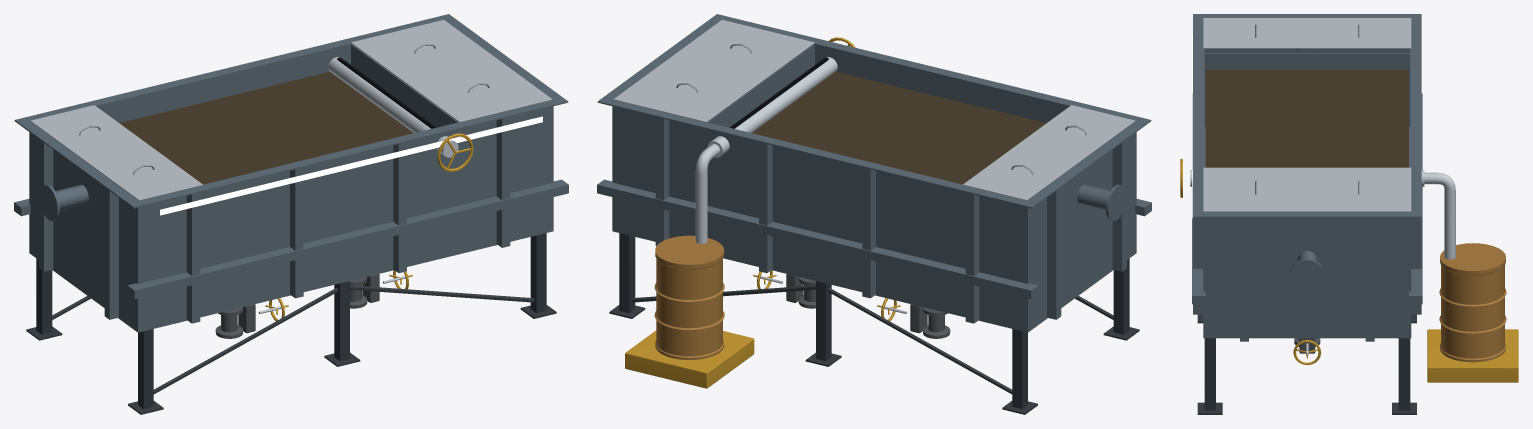
The model's file is separator.glb.
3 renders of one model, left to right at view 1: azimuth 30°, elevation 25°; view 2: azimuth 150°, elevation 25°; view 3: azimuth 270°, elevation 25°, orthographic. The views are drawn at different scales.
Visible parts, largest first — view 1: BODY_tank, WATER_surface, lids, BODY_stand, skimmer, STATUS_BAND, dv, nozzles, dv.001; view 2: BODY_tank, WATER_surface, lids, drum, BODY_stand, skimmer, dv, nozzles, dv.001; view 3: BODY_tank, WATER_surface, lids, drum, BODY_stand, skimmer, nozzles, dv.001.
Part boxes in pixels (bbox=[...]): BODY_tank: bbox=[14, 14, 568, 332]; WATER_surface: bbox=[119, 72, 413, 184]; lids: bbox=[30, 20, 552, 200]; BODY_stand: bbox=[26, 233, 556, 414]; skimmer: bbox=[328, 57, 473, 171]; STATUS_BAND: bbox=[160, 116, 542, 215]; dv: bbox=[215, 298, 288, 338]; nozzles: bbox=[39, 184, 88, 220]; dv.001: bbox=[350, 270, 412, 308]; BODY_tank: bbox=[597, 14, 1151, 332]; WATER_surface: bbox=[752, 72, 1046, 184]; lids: bbox=[613, 20, 1135, 200]; drum: bbox=[625, 235, 754, 388]; BODY_stand: bbox=[609, 233, 1139, 414]; skimmer: bbox=[695, 37, 855, 243]; dv: bbox=[877, 298, 950, 338]; nozzles: bbox=[1077, 184, 1126, 220]; dv.001: bbox=[753, 270, 815, 308]; BODY_tank: bbox=[1192, 14, 1422, 341]; WATER_surface: bbox=[1205, 69, 1408, 167]; lids: bbox=[1203, 18, 1411, 211]; drum: bbox=[1427, 243, 1518, 382]; BODY_stand: bbox=[1197, 314, 1416, 414]; skimmer: bbox=[1180, 158, 1455, 259]; nozzles: bbox=[1289, 48, 1324, 291]; dv.001: bbox=[1293, 338, 1321, 365].
Size of the model in its own units: 4.7 by 2.03 by 2.96.
